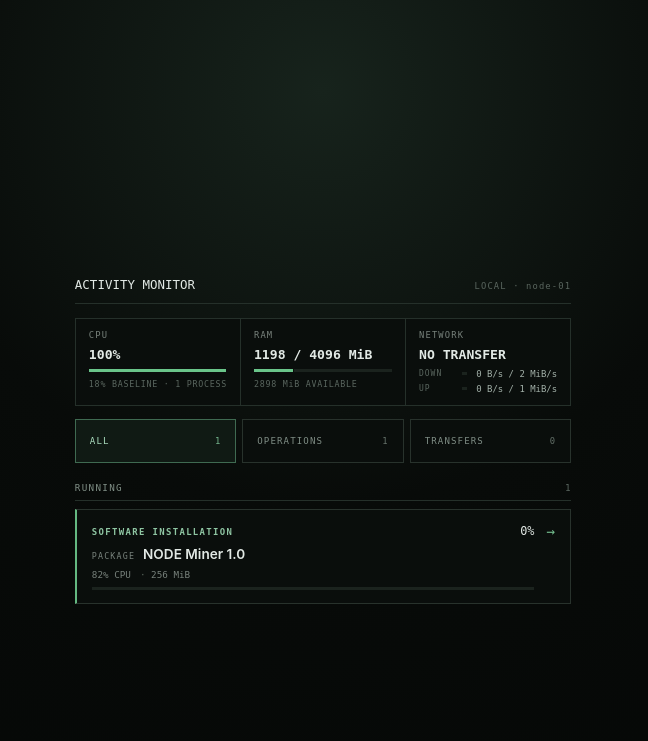
Scenario: Activity Monitor: Software Installation and Removal › shows a running installation with its package, progress, and reserved resources
The width and height of the screenshot is (648, 741).
Check: the text "PACKAGE" is shown, box [92,550,135,560]
Check: the text "NODE Miner 1.0" is shown, box [143,546,245,562]
Click the button with class "am-row": [163, 532] box [75,508,571,604]
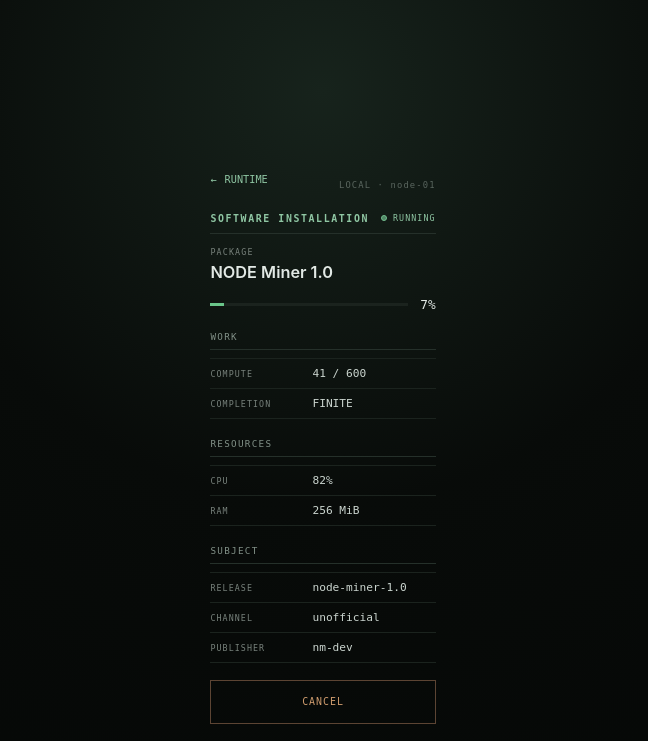
Check: the text "256 MiB" is shown, box [312,504,360,516]
Check: the text "node-miner-1.0" is shown, box [312,580,407,594]
